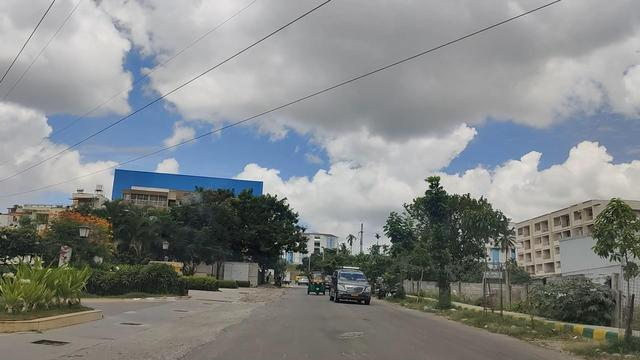RoadDamages: (57, 325, 156, 360), (203, 297, 267, 333), (329, 317, 381, 345), (159, 336, 213, 360), (329, 337, 369, 360)
